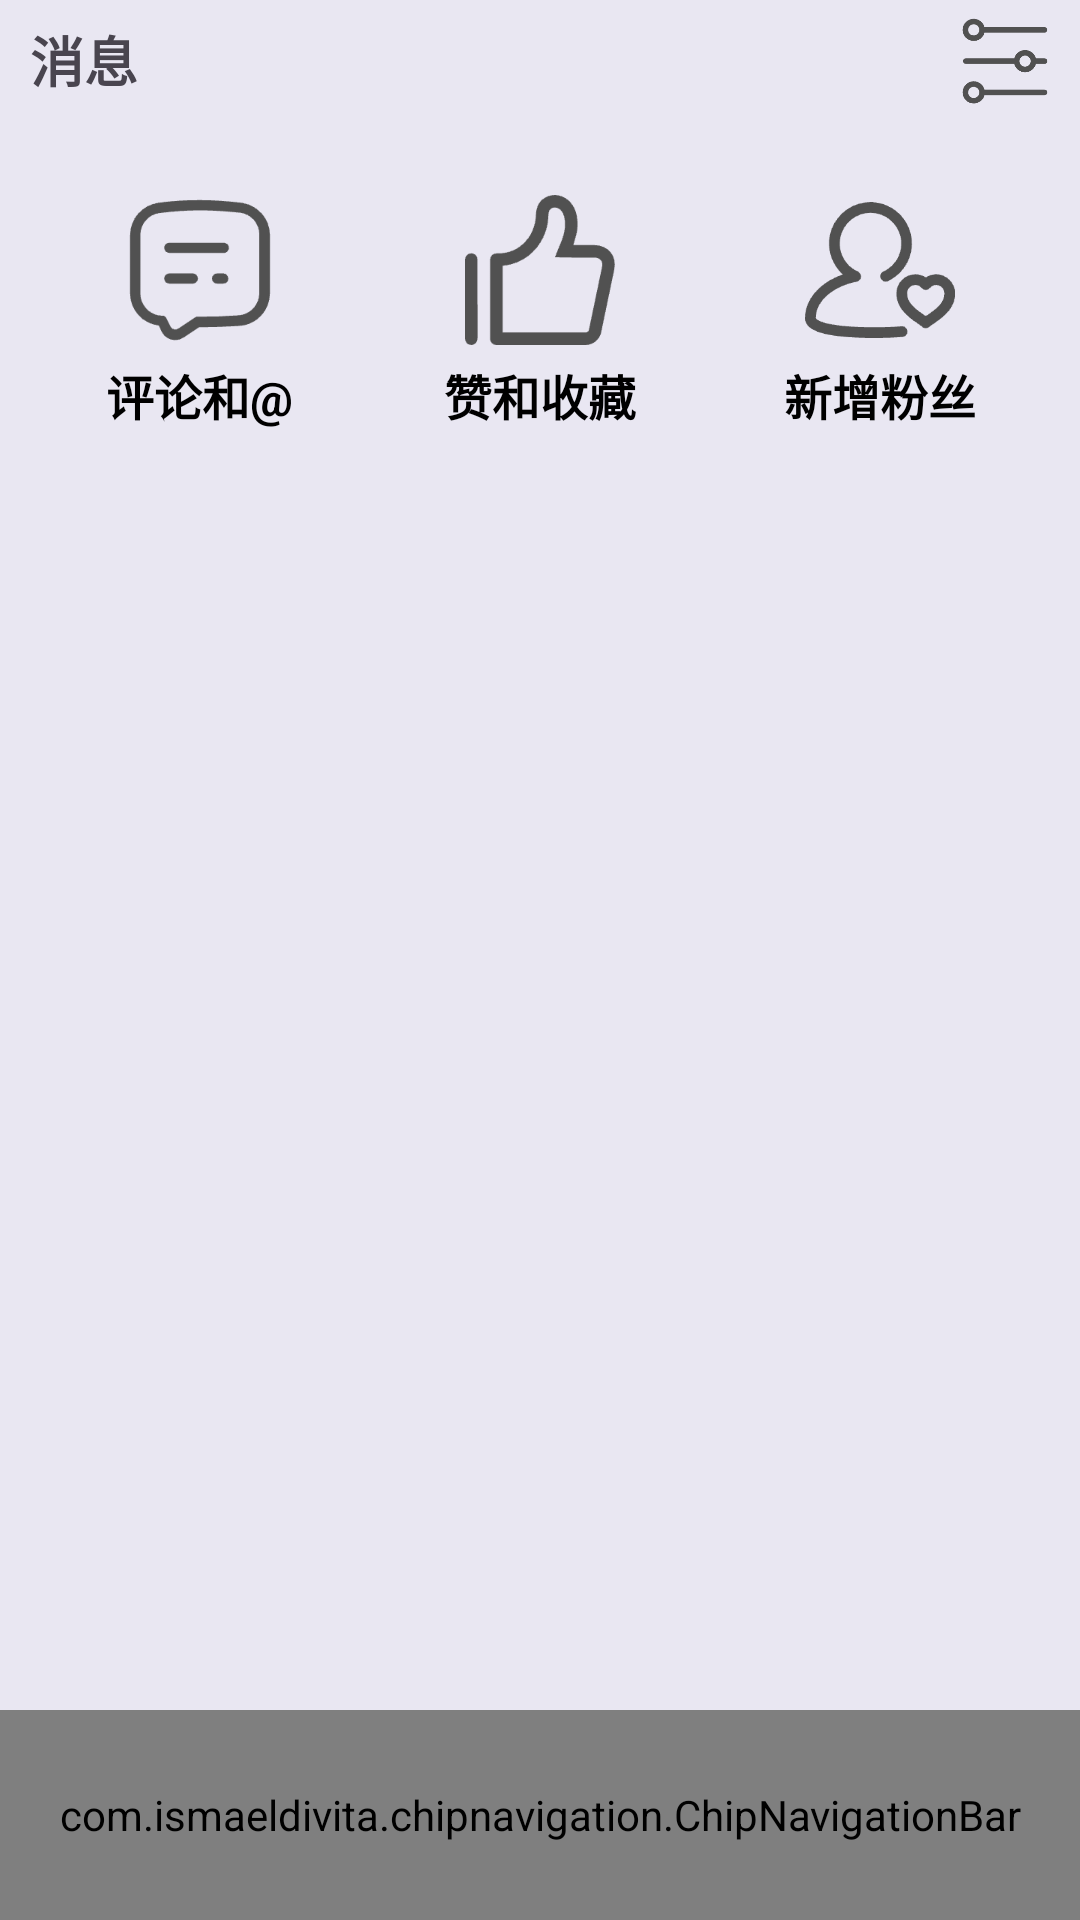

Icons on this 1080 x 1920 Android screen, each with its box as (x1, y1, x2, y2):
setting: (962, 19, 1047, 104)
